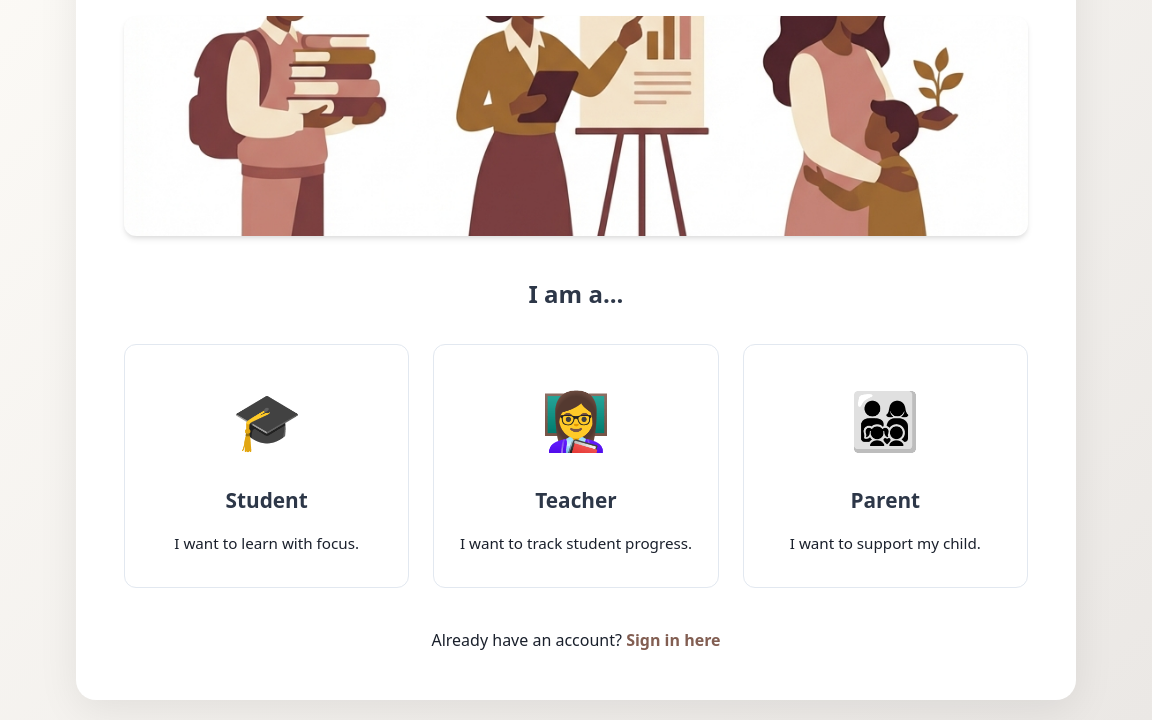
Test: Registration Flow › should go back to role selection
The image size is (1152, 720).
(page scrolled)
Click the button "Teacher".
click(576, 419)  # box [433,344,718,588]
(page scrolled)
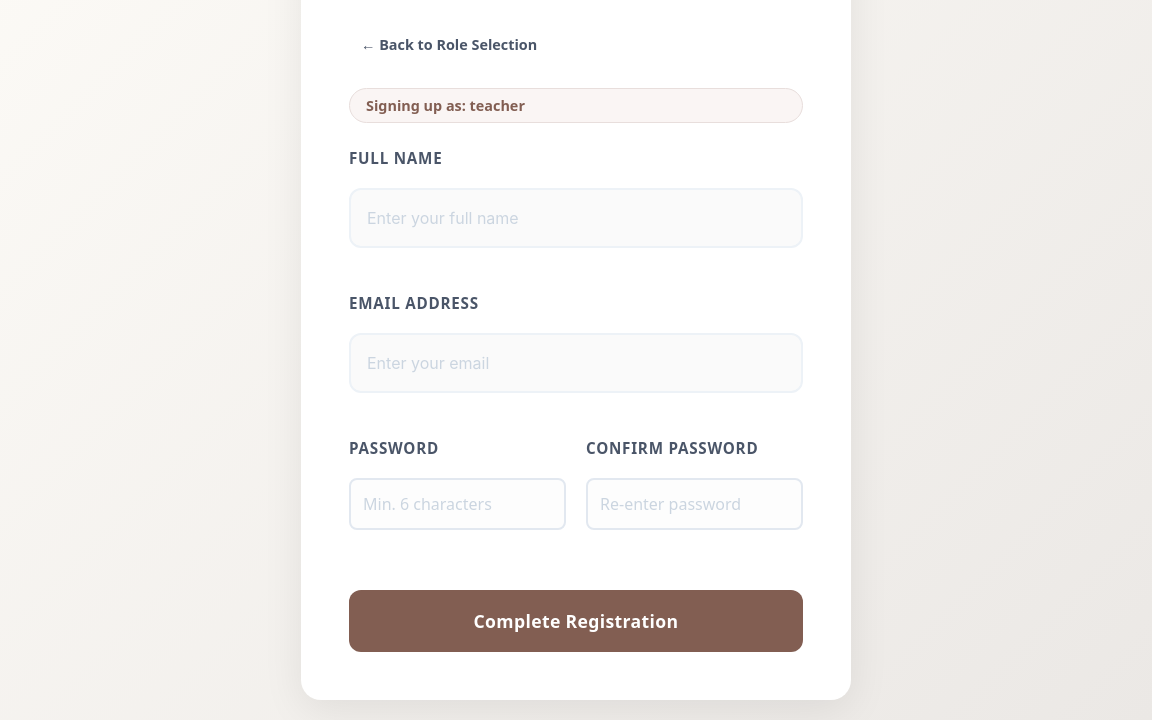
Click the button with class "back-btn".
click(449, 45)  # box [349,26,803,64]
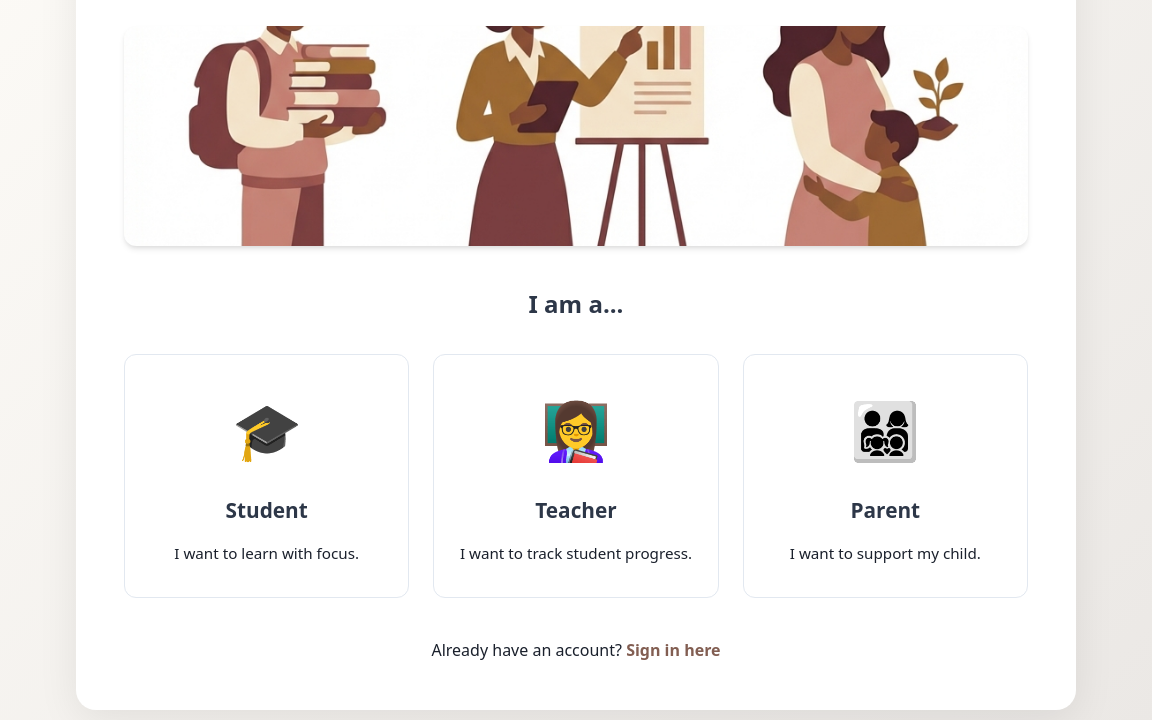
Expected: the heading "I am a..." is shown, [528,287,623,320]
